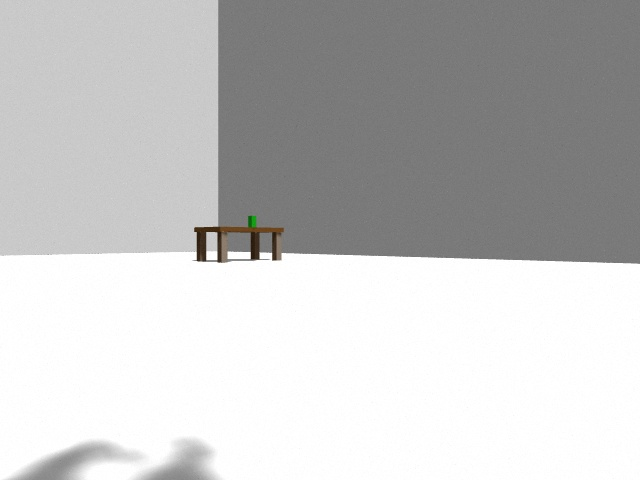green_cube: (248, 216, 256, 227)
